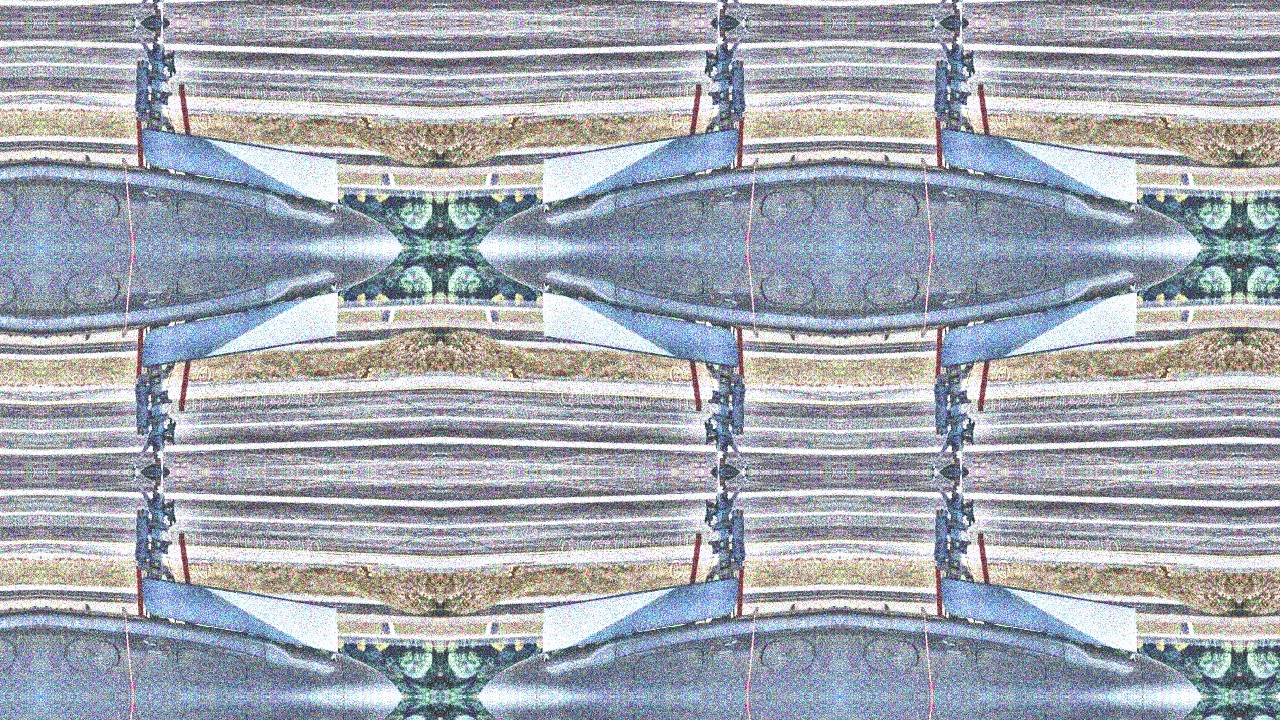wheel: (138, 13, 176, 23), (704, 13, 742, 23), (938, 13, 976, 23), (138, 22, 176, 32), (704, 22, 742, 32), (938, 22, 976, 32), (138, 463, 176, 473), (704, 463, 742, 473), (938, 463, 976, 473), (138, 472, 176, 482), (704, 472, 742, 482), (938, 472, 976, 482)
